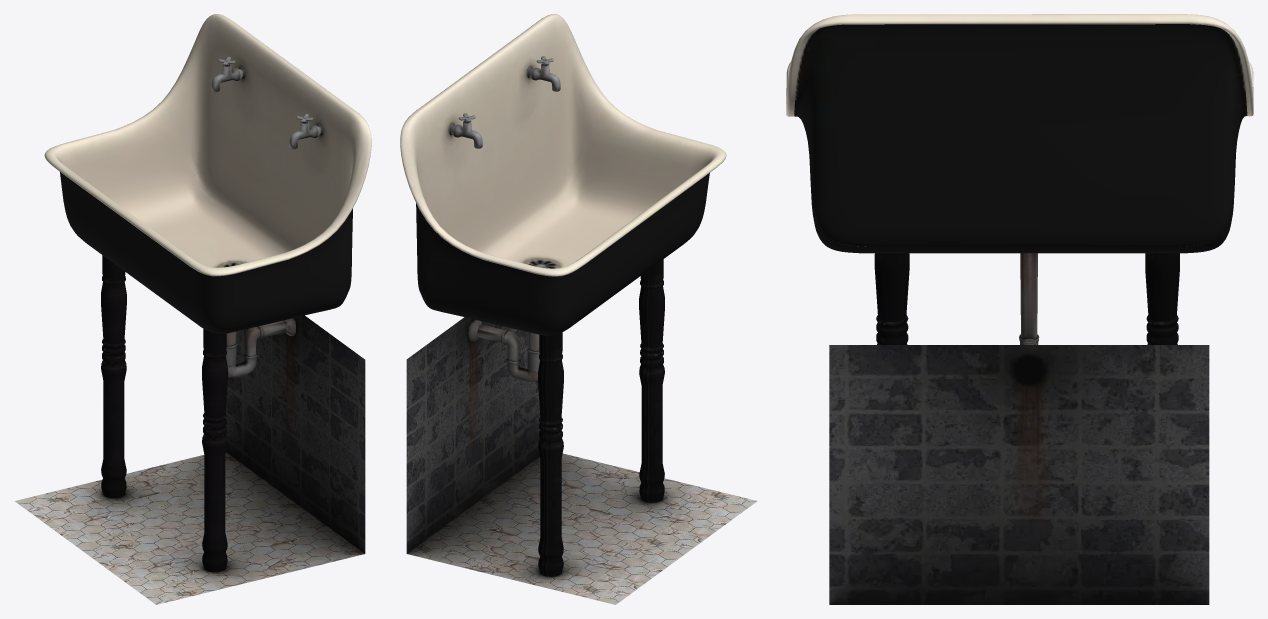
File: s_fregadero_vic.glb
The picture shows the model from 3 angles, left to right: view 1: azimuth 30°, elevation 25°; view 2: azimuth 150°, elevation 25°; view 3: azimuth 270°, elevation 25°; orthographic projection. The views are drawn at different scales.
Parts seen in each view (by area): view 1: Object_2; view 2: Object_2; view 3: Object_2.
Boxes of the visible parts, x1,y1,x2,y2 form: Object_2: (14, 14, 371, 604); Object_2: (400, 14, 757, 604); Object_2: (786, 14, 1253, 604).
Size of the model in its own units: 0.448 by 0.9 by 0.6478.
2 materials, 2 textured.
